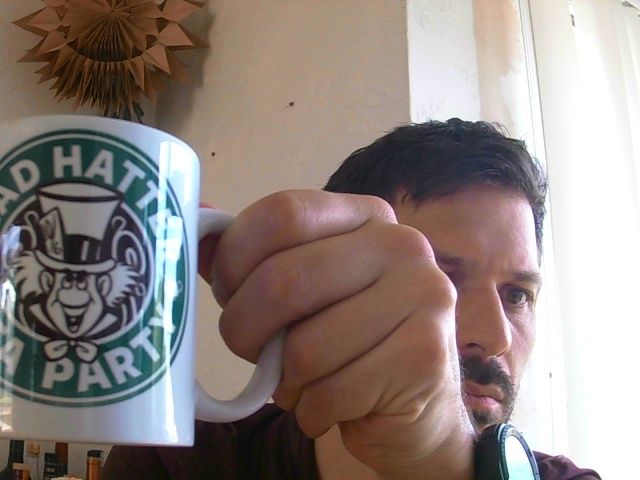mug: (1, 114, 202, 446)
